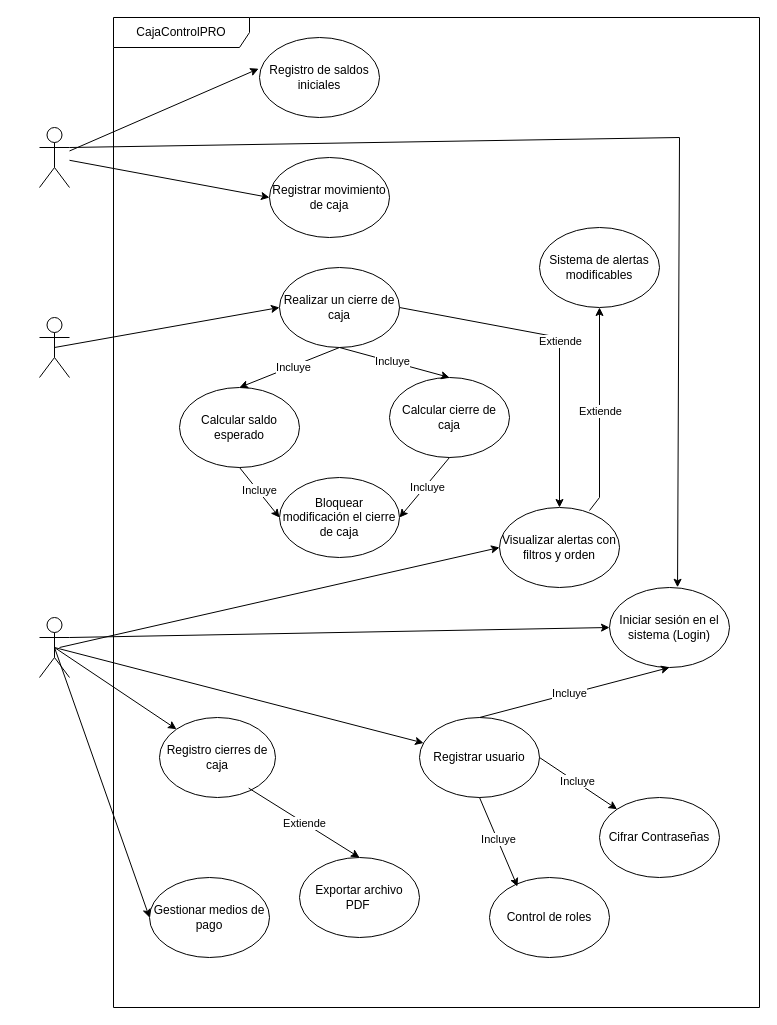
The diagram is 777 pixels wide and 1025 high, and some of its shapes have lost their labels. Here are the shapes that lost their labels. From the top down, the centre of each, then its label:
At point (54, 157): "Cajero".
At point (54, 347): "Operador".
At point (54, 647): "Administrador".
